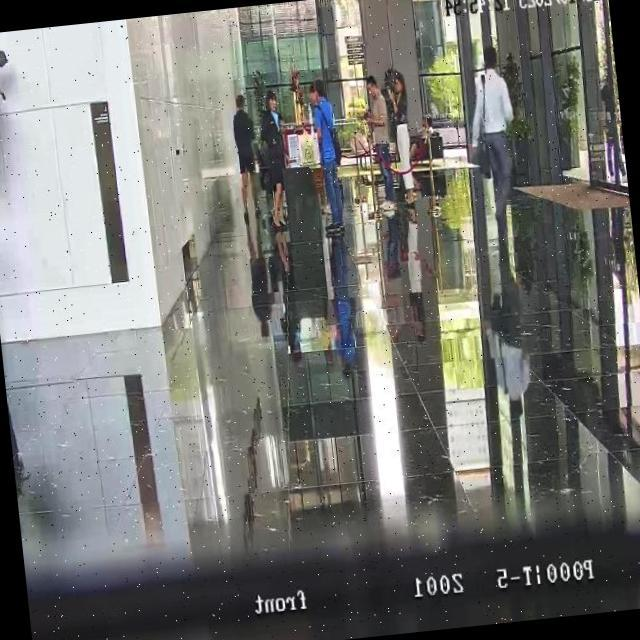person: (460, 43, 528, 258), (306, 78, 348, 232), (256, 89, 294, 230), (359, 74, 396, 210), (228, 92, 263, 216), (596, 83, 627, 188), (384, 66, 414, 174)
